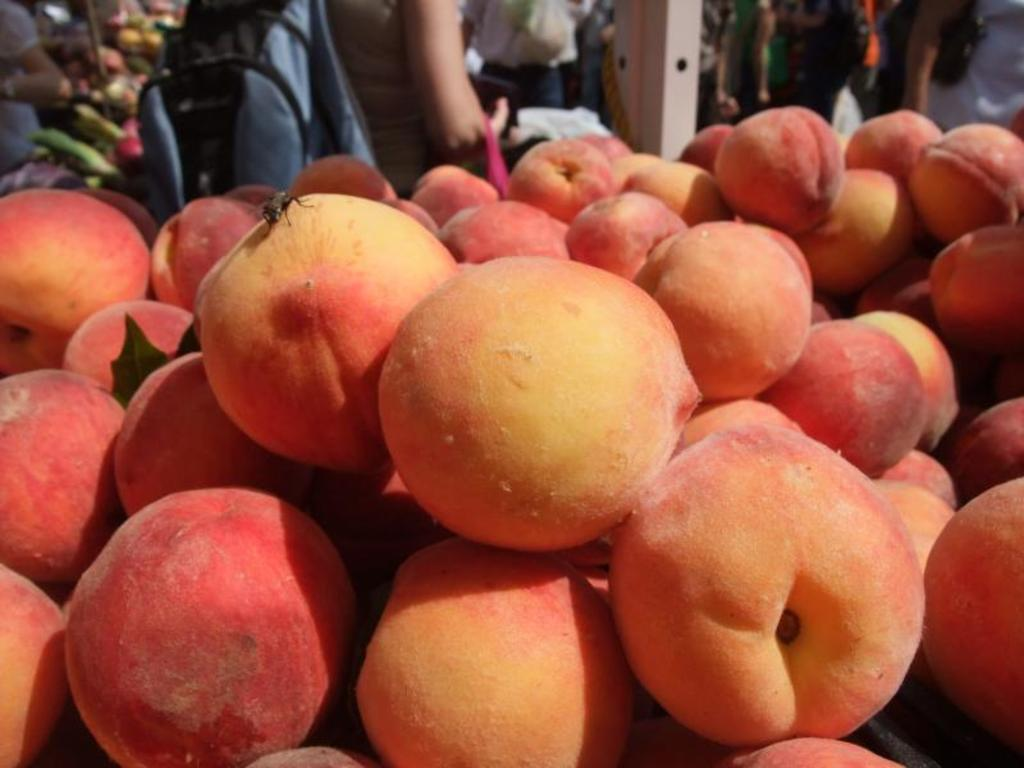Apple: (0, 101, 1022, 766), (625, 404, 940, 768)
